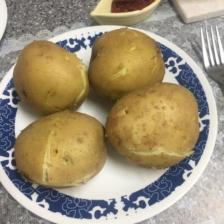Potato: (104, 80, 200, 170), (12, 109, 106, 189), (11, 39, 91, 115), (87, 28, 168, 102)
